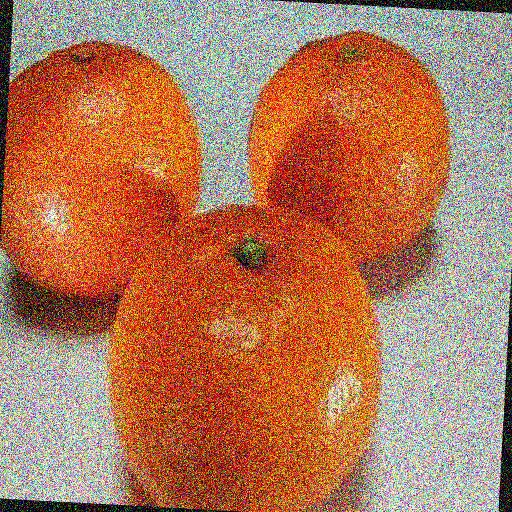fruit: (33, 83, 365, 316), (289, 208, 455, 512), (396, 96, 487, 305)
